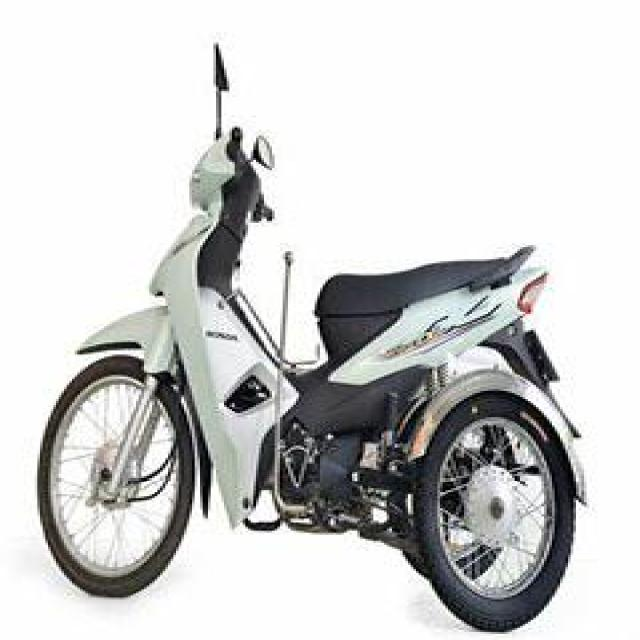motorcycle: (11, 34, 618, 636)
